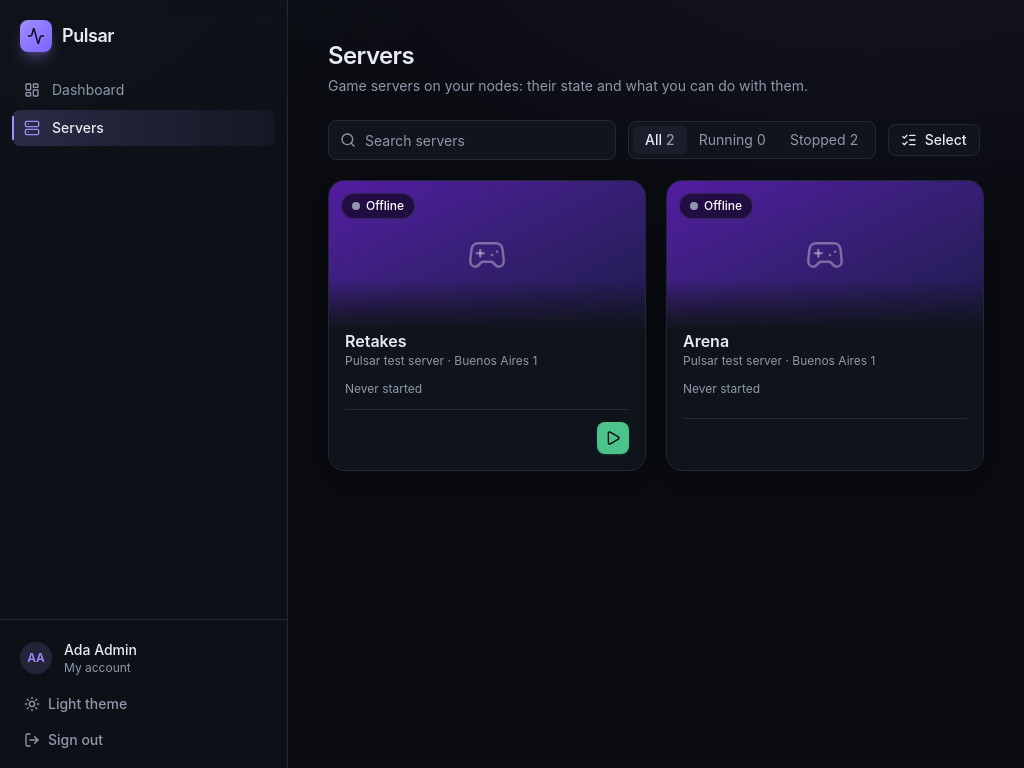
Scenario: actions on several servers › goes by each server's own permissions, and says what the panel refused
The image size is (1024, 768).
Click the button "Select".
click(934, 140)  # box [888,124,980,156]
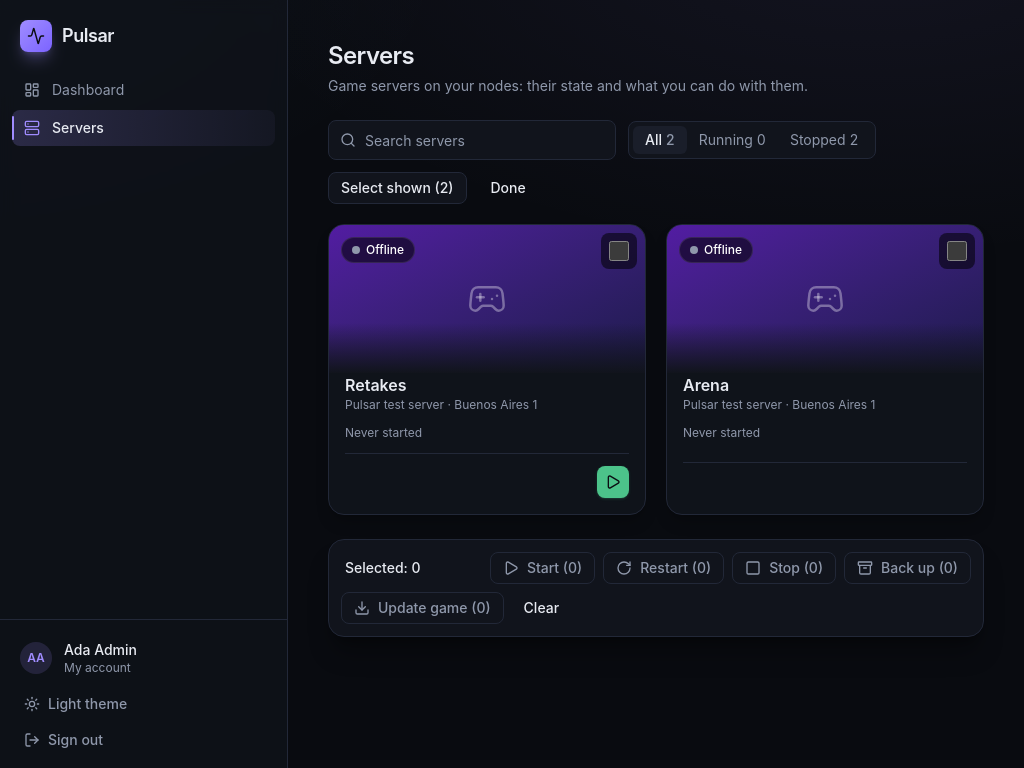
Click the checkbox named "Select Retakes".
click(619, 251)  # box [609,241,629,261]
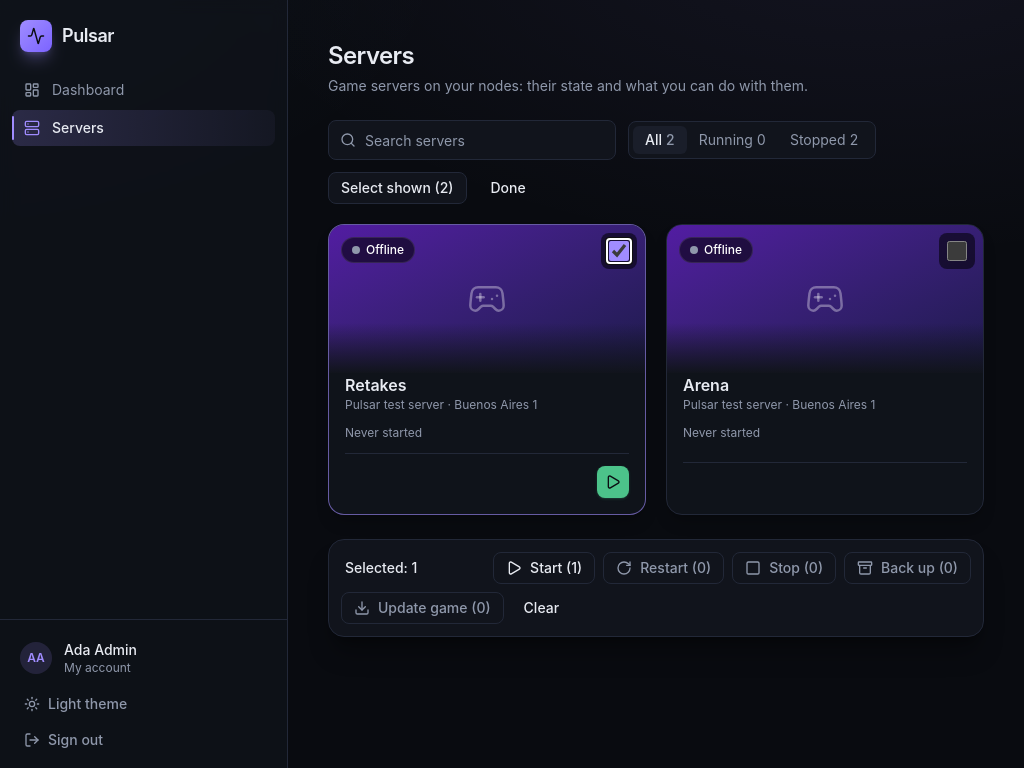
Click the checkbox named "Select Arena".
click(957, 251)  # box [947,241,967,261]
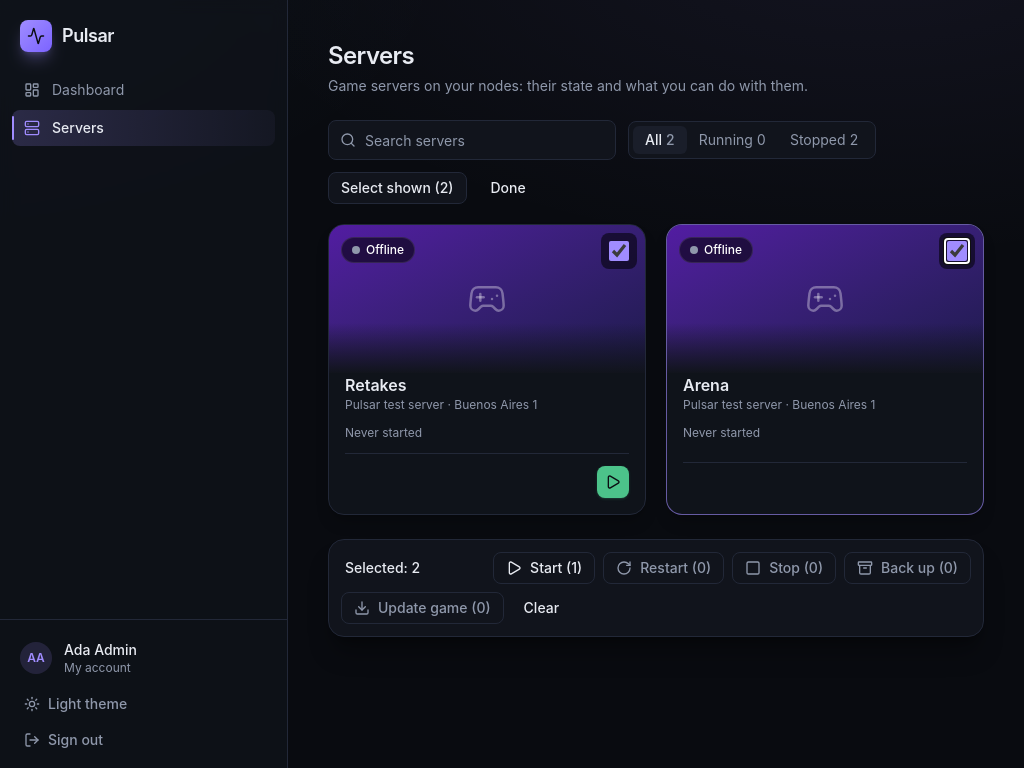
Result: the button "Stop (0)" is disabled at [732,552,836,584]
Click the button "Start (1)".
click(544, 568)  # box [493,552,595,584]
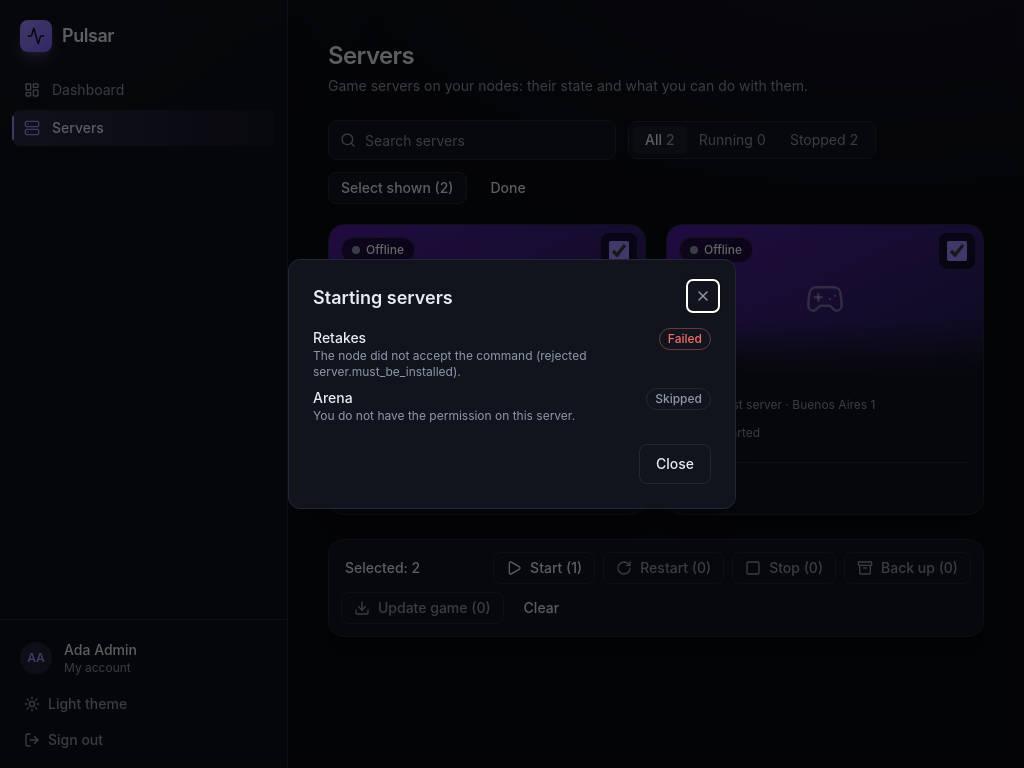
Result: the list item that starts with "Retakes" shows "Failed" at [668,331,702,346]
Result: the list item "Arena You do not have the permission on this server. Skipped" is shown at [313,388,711,424]
